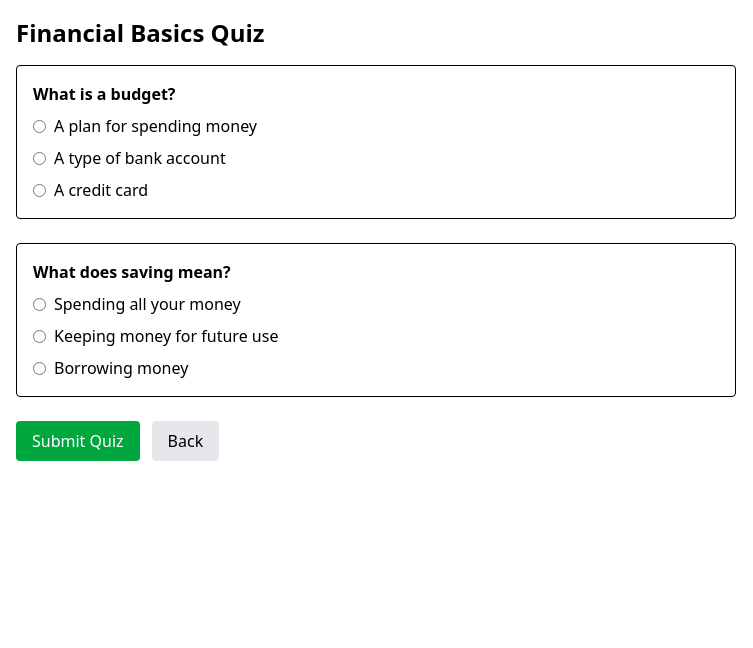
Test: Quiz › disables inputs after submission
expect the heading "Financial Basics Quiz" is shown: met, box [16, 16, 264, 49]
Click the radio button labelled "A plan for spending money".
click(40, 126)  # box [33, 120, 46, 132]
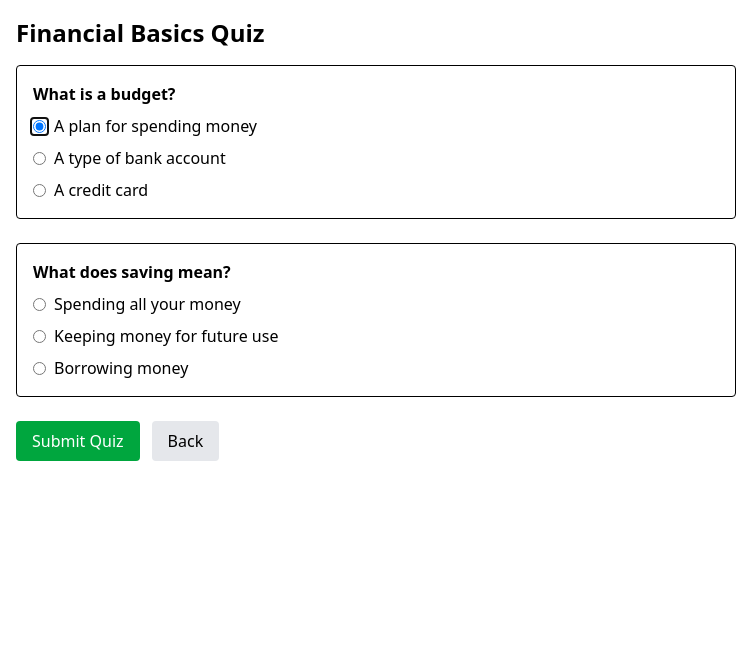
Click the button "Submit Quiz".
click(78, 441)  # box [16, 421, 140, 461]
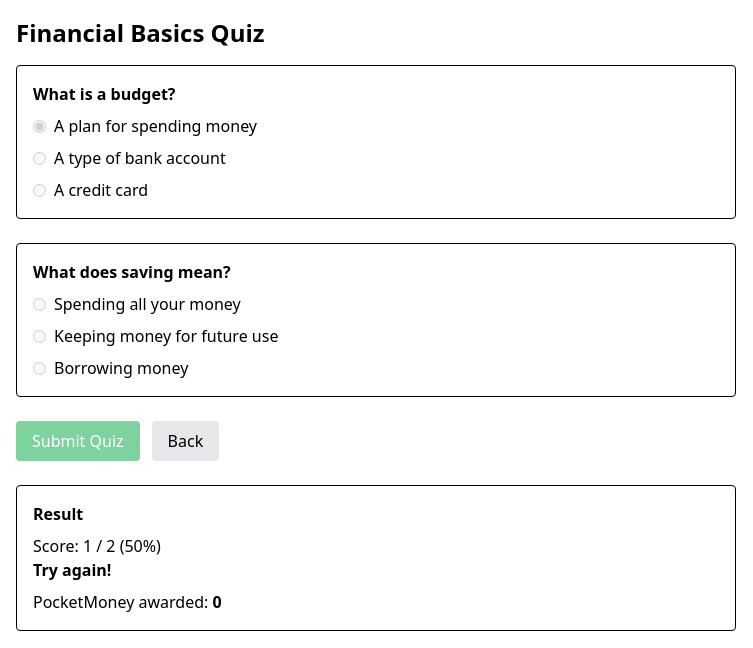
expect the heading "Result" is shown: met, box [33, 503, 83, 525]
expect the radio button labelled "A plan for spending money" is disabled: met, box [33, 120, 46, 132]
expect the radio button labelled "A type of bank account" is disabled: met, box [33, 152, 46, 164]
